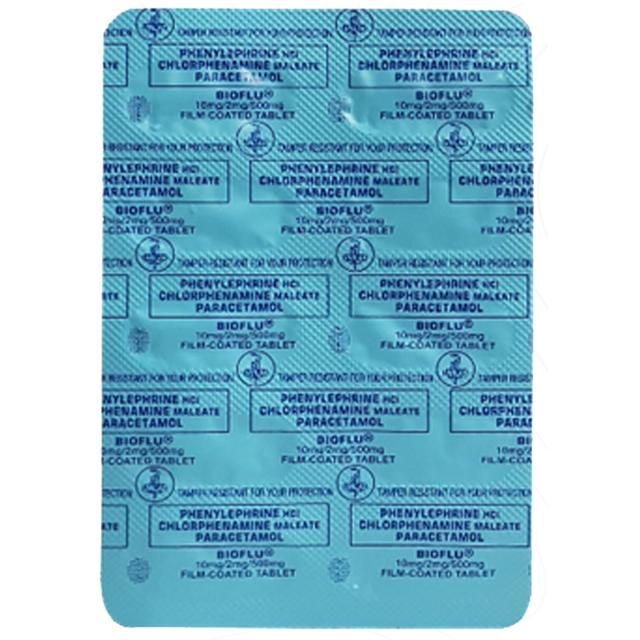blister: (98, 1, 541, 638)
